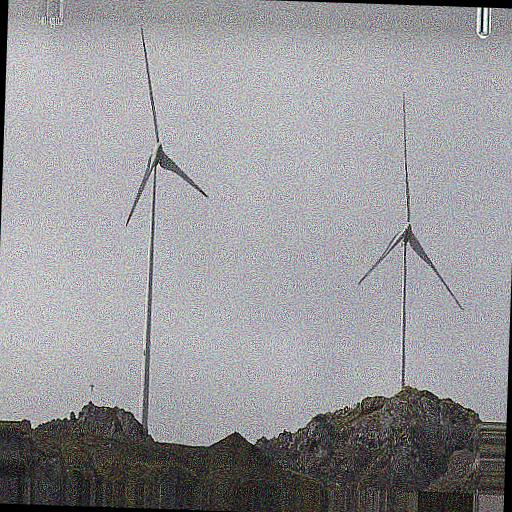wind turbine: (122, 24, 211, 415), (353, 91, 465, 383)
